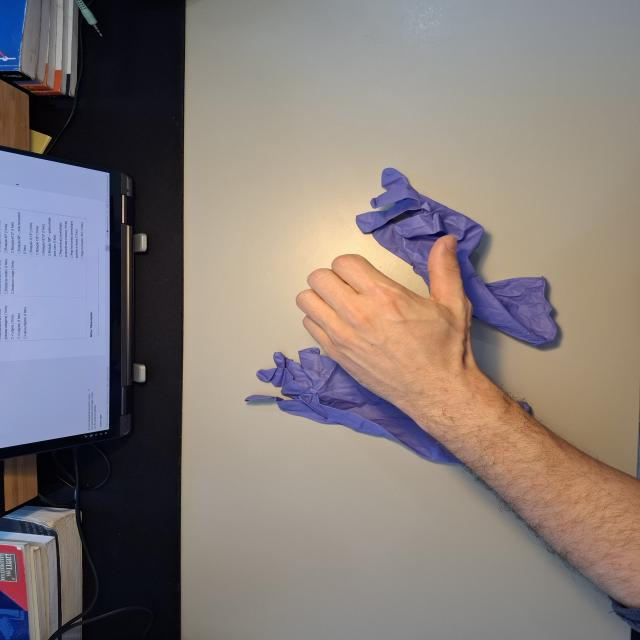glove_off: (294, 233, 478, 413)
